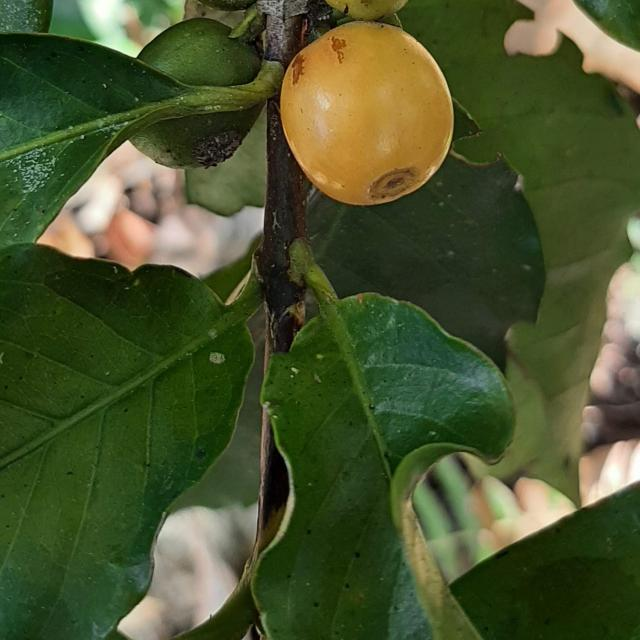green: (130, 104, 262, 168), (138, 18, 261, 86)
red: (280, 20, 454, 205)
